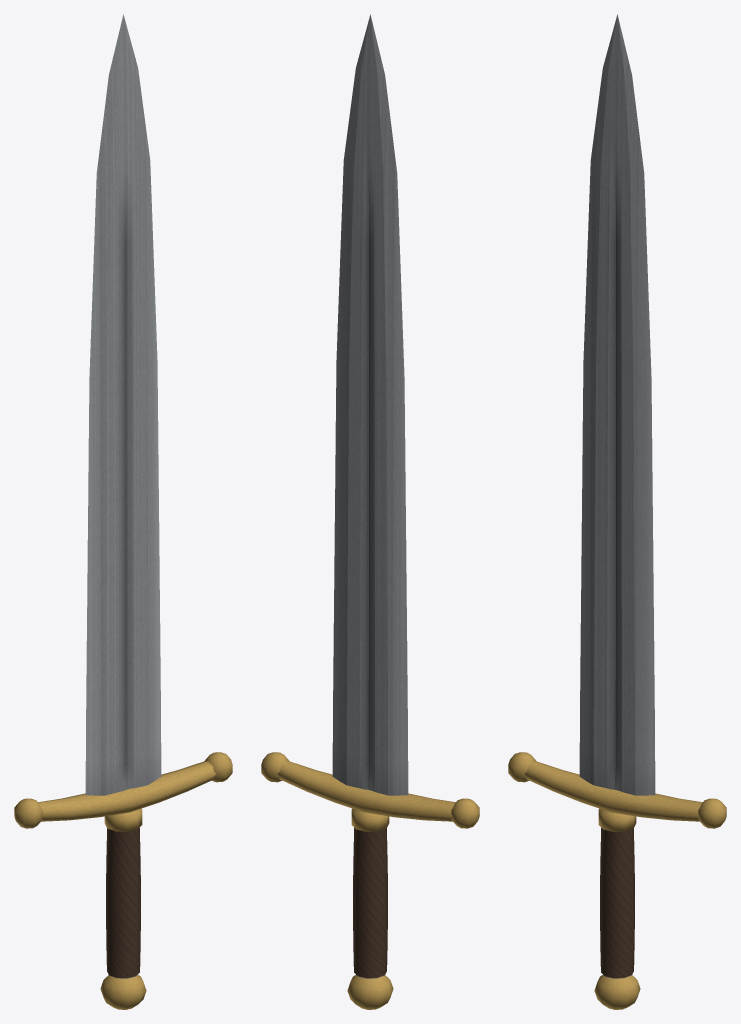
The model's file is mm8_m444_sword.glb.
The picture shows the model from 3 angles, left to right: view 1: azimuth 30°, elevation 25°; view 2: azimuth 150°, elevation 25°; view 3: azimuth 330°, elevation 25°; orthographic projection.
Visible parts, largest first — view 1: Sword; view 2: Sword; view 3: Sword.
Boxes of the visible parts, left/top/right/bottom form: Sword: left=14, top=14, right=232, bottom=1009; Sword: left=261, top=14, right=479, bottom=1009; Sword: left=508, top=14, right=726, bottom=1009.
Bounding box in the file's own units: 0.1769 × 0.78 × 0.0314.
Materials: 1 (1 with a texture image).
